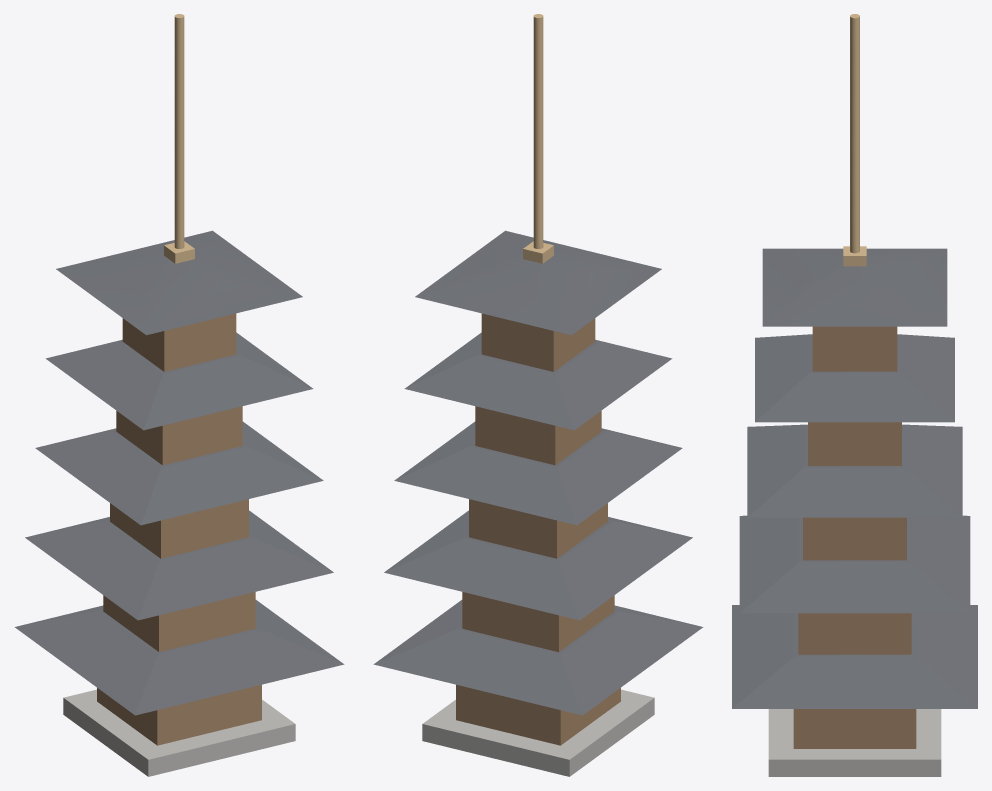
The model's file is kyoto_pagoda.glb.
The picture shows the model from 3 angles, left to right: view 1: azimuth 30°, elevation 25°; view 2: azimuth 150°, elevation 25°; view 3: azimuth 270°, elevation 25°; orthographic projection.
Parts seen in each view (by area): view 1: roof_1, roof_2, roof_3, roof_5, roof_4, kidan, storey_1, storey_2, storey_3, storey_4, storey_5, sorin; view 2: roof_1, roof_2, roof_3, roof_5, roof_4, kidan, storey_1, storey_2, storey_3, storey_4, storey_5, sorin; view 3: roof_1, roof_2, roof_3, roof_4, roof_5, kidan, storey_1, storey_2, storey_3, storey_4, storey_5, sorin (+1 smaller).
Part boxes in pixels (x1,y1,x2,y2): roof_1: (14,600,344,715); roof_2: (25,510,333,620); roof_3: (35,421,323,525); roof_5: (56,230,302,335); roof_4: (45,332,313,430); kidan: (63,689,295,776); storey_1: (97,684,261,745); storey_2: (103,592,255,652); storey_3: (110,499,248,558); storey_4: (116,406,242,465); storey_5: (122,313,236,371); sorin: (174,14,184,248); roof_1: (373,600,703,715); roof_2: (384,510,692,620); roof_3: (394,421,682,525); roof_5: (415,230,661,335); roof_4: (404,332,672,430); kidan: (422,689,654,776); storey_1: (456,684,620,745); storey_2: (462,592,614,652); storey_3: (469,499,607,558); storey_4: (475,406,601,465); storey_5: (481,313,595,371); sorin: (533,14,543,248); roof_1: (732,605,977,708); roof_2: (739,515,970,613); roof_3: (747,424,962,517); roof_4: (755,334,954,422); roof_5: (762,248,947,326); kidan: (768,709,941,776); storey_1: (793,709,916,748); storey_2: (798,613,911,654); storey_3: (803,517,906,560); storey_4: (808,422,901,465); storey_5: (812,326,897,371); sorin: (850,14,859,253).
Size of the model in its own units: 12.8 by 41.6 by 12.8.
